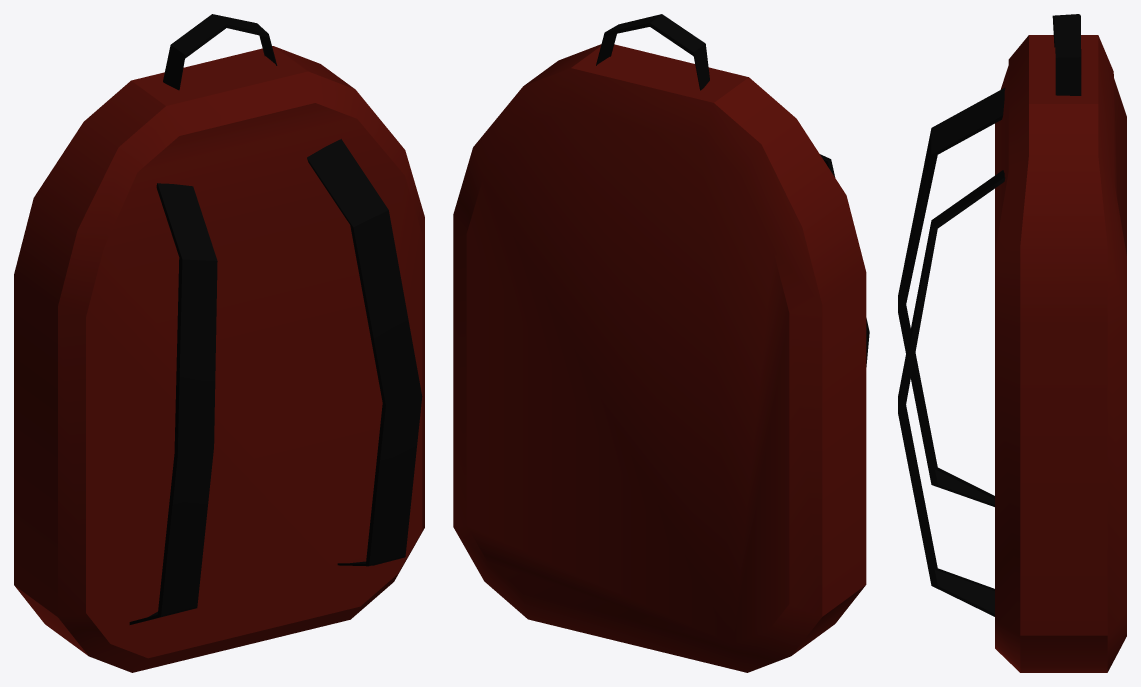
File: mochila.fbx
3 renders of one model, left to right at view 1: azimuth 30°, elevation 25°; view 2: azimuth 150°, elevation 25°; view 3: azimuth 270°, elevation 25°, orthographic.
Visible parts, largest first — view 1: Cube, Cube.002, Cube.001, Cube.003; view 2: Cube, Cube.003; view 3: Cube, Cube.001, Cube.002, Cube.003.
Boxes of the visible parts, box(x1,y1,x2,y2) form: Cube: box(14, 46, 424, 672); Cube.002: box(307, 139, 422, 566); Cube.001: box(129, 183, 217, 624); Cube.003: box(163, 14, 277, 90); Cube: box(453, 44, 866, 672); Cube.003: box(596, 14, 709, 90); Cube: box(995, 35, 1126, 672); Cube.001: box(898, 87, 1005, 506); Cube.002: box(898, 170, 1005, 616); Cube.003: box(1052, 14, 1081, 95).
Bounding box in the file's own units: 1.39 × 2.2 × 0.7533.
